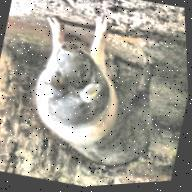boar: (12, 0, 181, 183)
